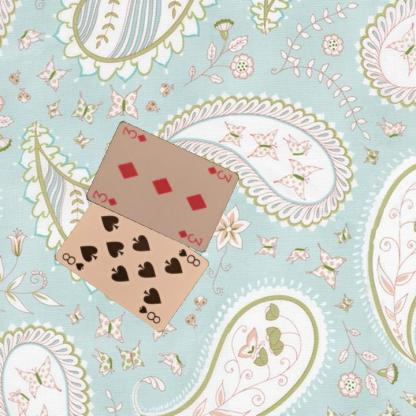3d: (90, 187, 118, 208), (204, 164, 233, 184)
8s: (59, 250, 85, 272), (175, 246, 201, 268)
